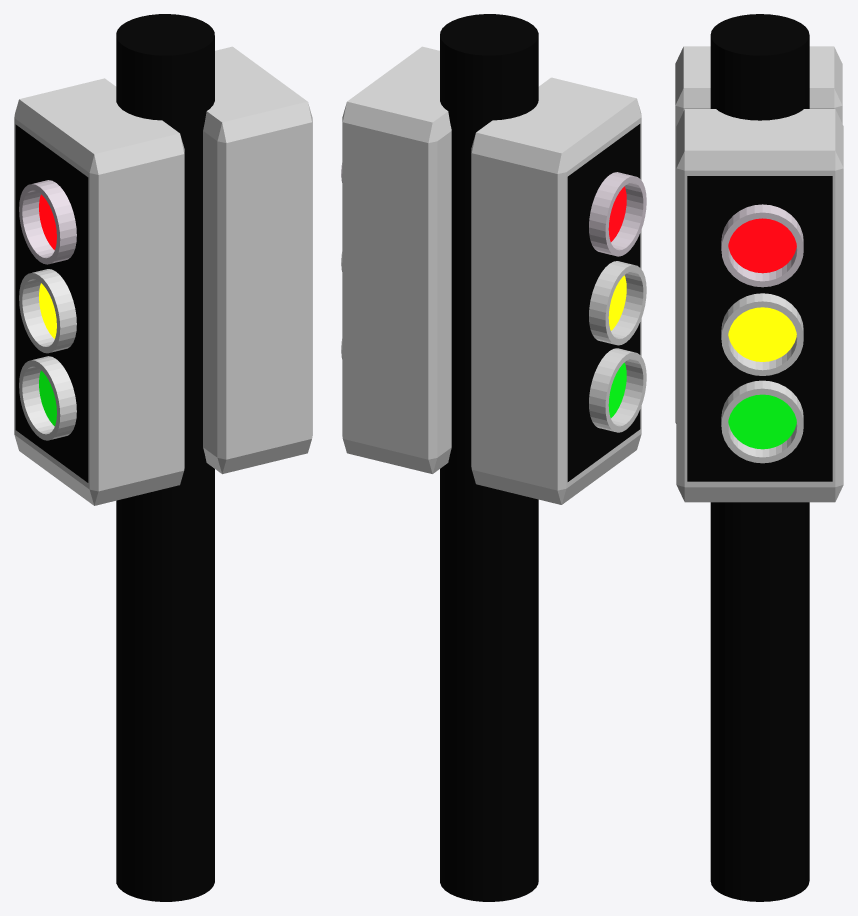
The model's file is uk_traffic_light_double_1(tall).fbx.
3 views of the same model, side by side, from view 1: azimuth 30°, elevation 25°; view 2: azimuth 150°, elevation 25°; view 3: azimuth 270°, elevation 25° (orthographic).
Parts seen in each view (by area): view 1: Cylinder, Cube.001, Cube, Circle.004, Circle.005, Circle.003; view 2: Cylinder, Cube.001, Cube, Circle.004, Circle.003, Circle.005; view 3: Cylinder, Cube, Circle.001, Circle, Circle.002, Cube.001.
Boxes of the visible parts, x1,y1,x2,y2 form: Cylinder: (116,14,214,901); Cube.001: (14,78,184,505); Cube: (203,46,312,474); Circle.004: (19,269,76,353); Circle.005: (19,180,76,264); Circle.003: (19,356,76,440); Cylinder: (440,14,538,901); Cube.001: (471,77,641,504); Cube: (342,46,451,473); Circle.004: (589,261,646,345); Circle.003: (589,348,646,432); Circle.005: (589,172,646,256); Cylinder: (710,14,809,901); Cube: (676,109,843,502); Circle.001: (721,293,803,375); Circle: (721,204,803,287); Circle.002: (721,380,803,463); Cube.001: (675,46,842,423).
Bounding box in the file's own units: 10.82 × 33.97 × 6.13.
